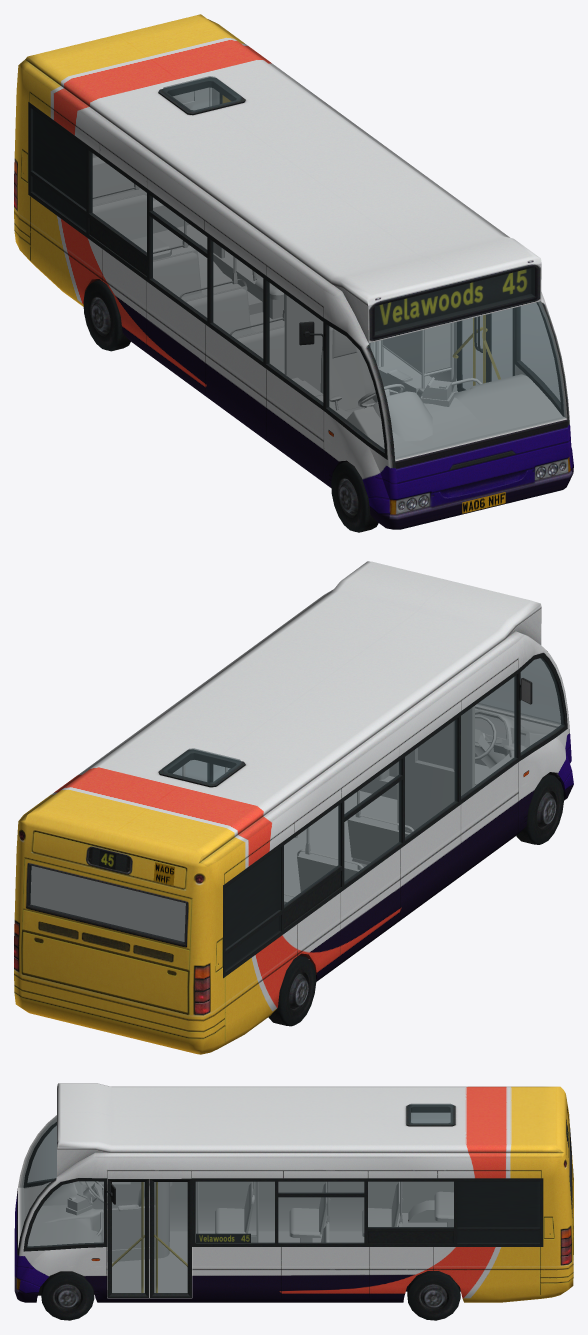
The model's file is MDLO_Bus_Small.FBX.
3 views of the same model, one above another, from view 1: azimuth 30°, elevation 25°; view 2: azimuth 150°, elevation 25°; view 3: azimuth 270°, elevation 25° (orthographic). The views are drawn at different scales.
Parts seen in each view (by area): view 1: exterior, glass4, interior, cab, Exterior_dark_inside, Bus_Door_R_Glass (×2), polySurface453, polySurface423, Bus_Door_R2, Bus_Door_R; view 2: exterior, glass4, interior, cab, Exterior_dark_inside, polySurface453, polySurface423; view 3: exterior, glass4, interior, cab, Bus_Door_R_Glass (×2), Exterior_dark_inside, polySurface452, polySurface422, Bus_Door_R, Bus_Door_R2.
Part boxes in pixels (x1,y1,x2,y2): exterior: (14, 14, 573, 529); glass4: (31, 76, 565, 459); interior: (92, 87, 567, 461); cab: (284, 294, 562, 457); Exterior_dark_inside: (33, 109, 86, 208); Bus_Door_R_Glass (×2): (462, 309, 512, 389); polySurface453: (83, 280, 130, 351); polySurface423: (331, 461, 378, 532); Bus_Door_R2: (477, 308, 514, 383); Bus_Door_R: (452, 317, 486, 391); exterior: (14, 561, 573, 1054); glass4: (29, 658, 564, 970); interior: (30, 703, 560, 959); cab: (360, 706, 556, 833); Exterior_dark_inside: (225, 849, 279, 948); polySurface453: (268, 955, 316, 1026); polySurface423: (516, 774, 563, 844); exterior: (14, 1083, 573, 1302); glass4: (20, 1103, 570, 1247); interior: (18, 1115, 453, 1298); cab: (24, 1179, 169, 1261); Bus_Door_R_Glass (×2): (112, 1182, 187, 1292); Exterior_dark_inside: (457, 1181, 539, 1227); polySurface452: (407, 1271, 460, 1320); polySurface422: (41, 1271, 94, 1320); Bus_Door_R: (150, 1178, 191, 1297); Bus_Door_R2: (107, 1179, 149, 1297).
Bounding box in the file's own units: 289 × 280 × 813.
